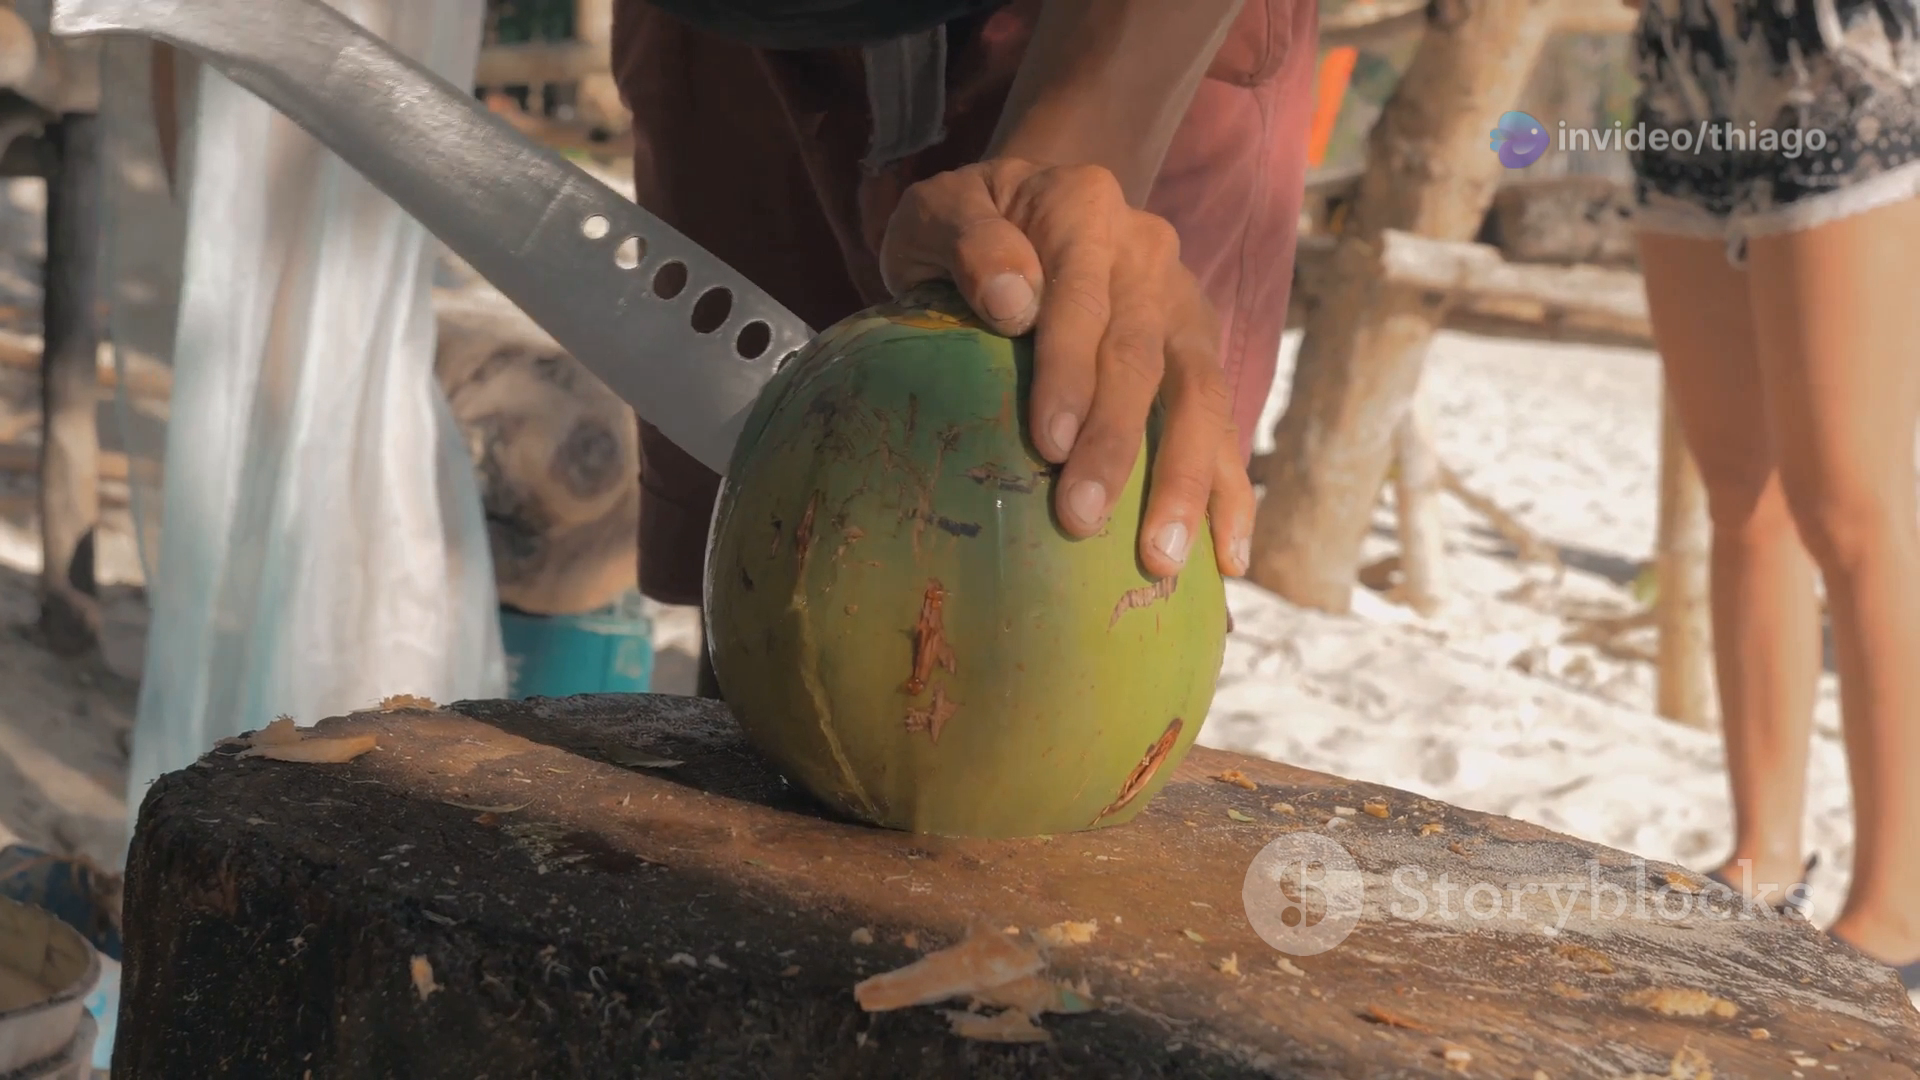cortante: (49, 0, 816, 479)
